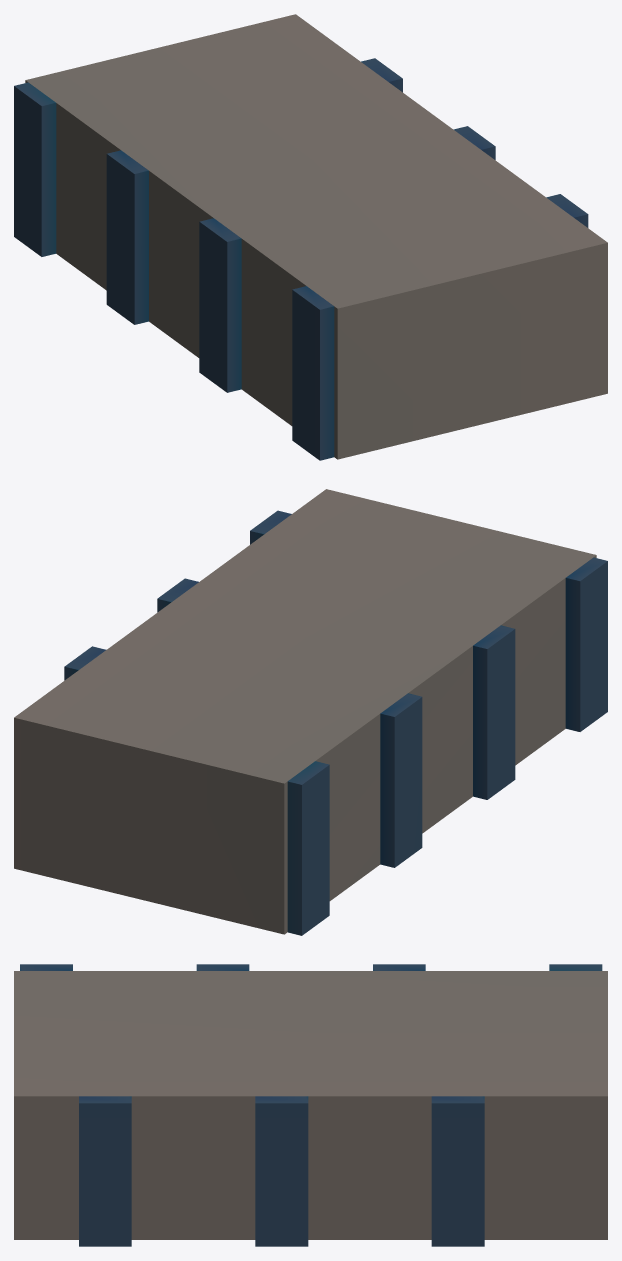
The picture shows the model from 3 angles, top to bottom: view 1: azimuth 30°, elevation 25°; view 2: azimuth 150°, elevation 25°; view 3: azimuth 270°, elevation 25°; orthographic projection. The views are drawn at different scales.
Parts seen in each view (by area): view 1: body, end_band, middle_band, intermediate_band, terminal_rib; view 2: body, intermediate_band, middle_band, end_band, terminal_rib; view 3: body, middle_band, intermediate_band, end_band.
Part boxes in pixels (x1=…): body: x1=25, y1=14, x2=607, y2=459; end_band: x1=292, y1=194, x2=588, y2=460; middle_band: x1=199, y1=126, x2=495, y2=392; intermediate_band: x1=106, y1=58, x2=402, y2=324; terminal_rib: x1=14, y1=82, x2=56, y2=256; body: x1=14, y1=489, x2=596, y2=934; intermediate_band: x1=64, y1=646, x2=422, y2=867; middle_band: x1=157, y1=578, x2=515, y2=799; end_band: x1=250, y1=510, x2=607, y2=731; terminal_rib: x1=287, y1=761, x2=329, y2=935; body: x1=14, y1=971, x2=607, y2=1239; middle_band: x1=196, y1=964, x2=308, y2=1246; intermediate_band: x1=373, y1=964, x2=484, y2=1246; end_band: x1=20, y1=964, x2=131, y2=1246.
Bounding box in the file's own units: 0.5534 × 0.2668 × 1.
